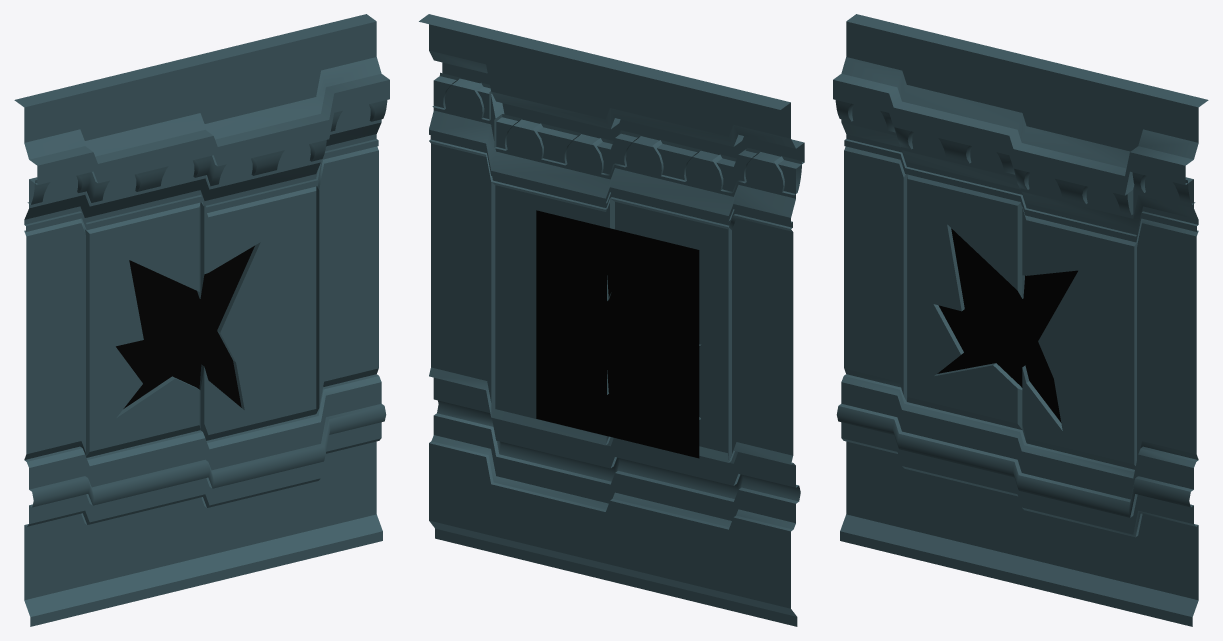
The model's file is Wall_Anxi_B.fbx.
3 renders of one model, left to right at view 1: azimuth 30°, elevation 25°; view 2: azimuth 150°, elevation 25°; view 3: azimuth 330°, elevation 25°, orthographic. The views are drawn at different scales.
Visible parts, largest first — view 1: Wall_Mirror_Crooked_HoleB2; view 2: Wall_Mirror_Crooked_HoleB2; view 3: Wall_Mirror_Crooked_HoleB2.
Part boxes in pixels (x1,y1,x2,y2): Wall_Mirror_Crooked_HoleB2: [14, 14, 389, 626]; Wall_Mirror_Crooked_HoleB2: [419, 14, 804, 626]; Wall_Mirror_Crooked_HoleB2: [833, 14, 1208, 626].
Bounding box in the file's own units: 20 × 27.92 × 2.29.
